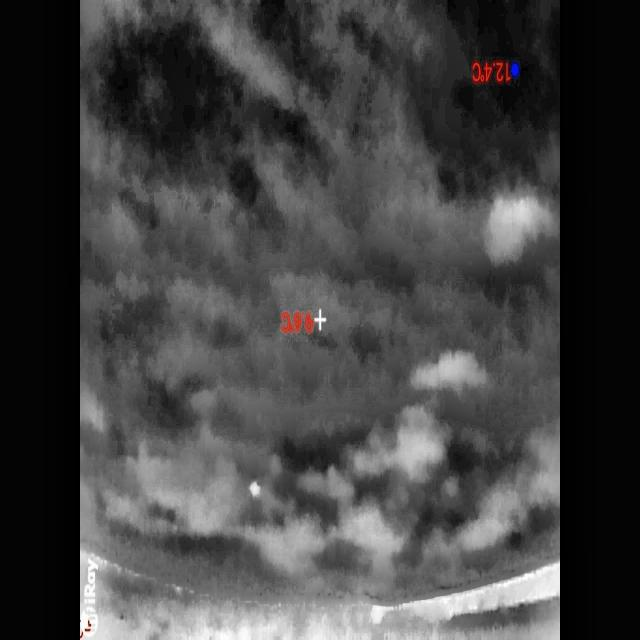drone: (249, 478, 260, 498)
